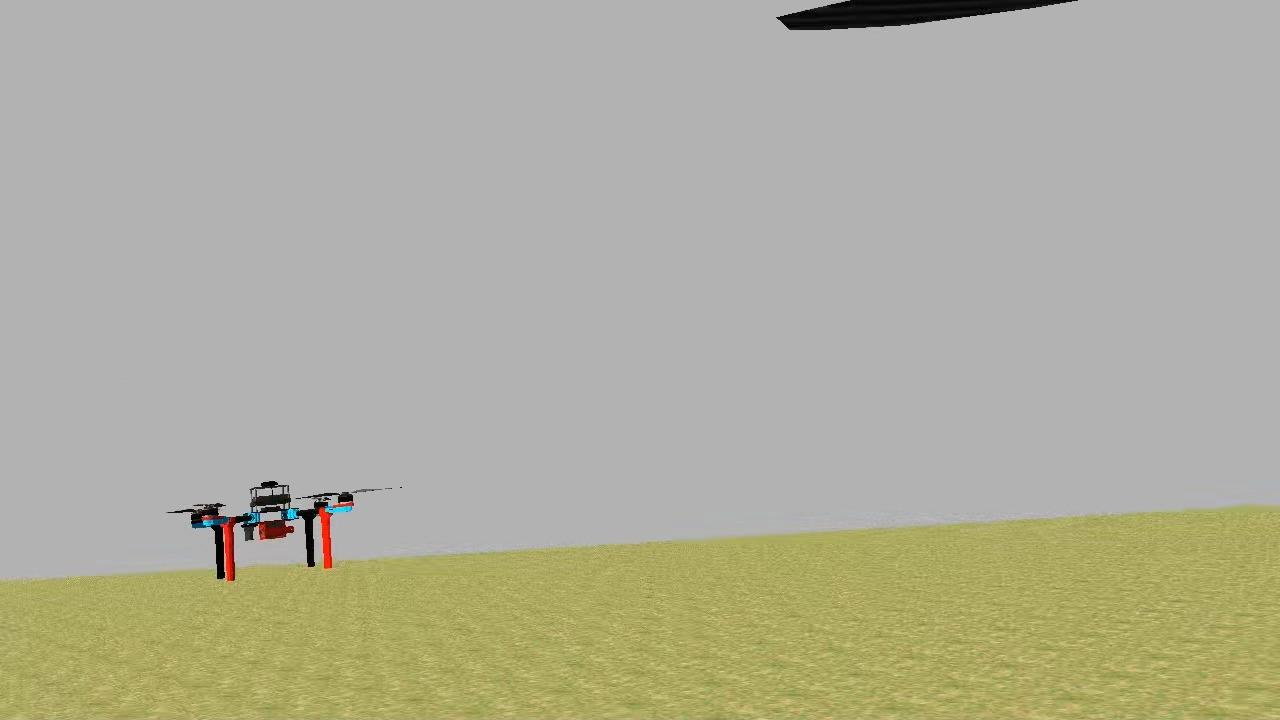UAV: (182, 474, 358, 585)
